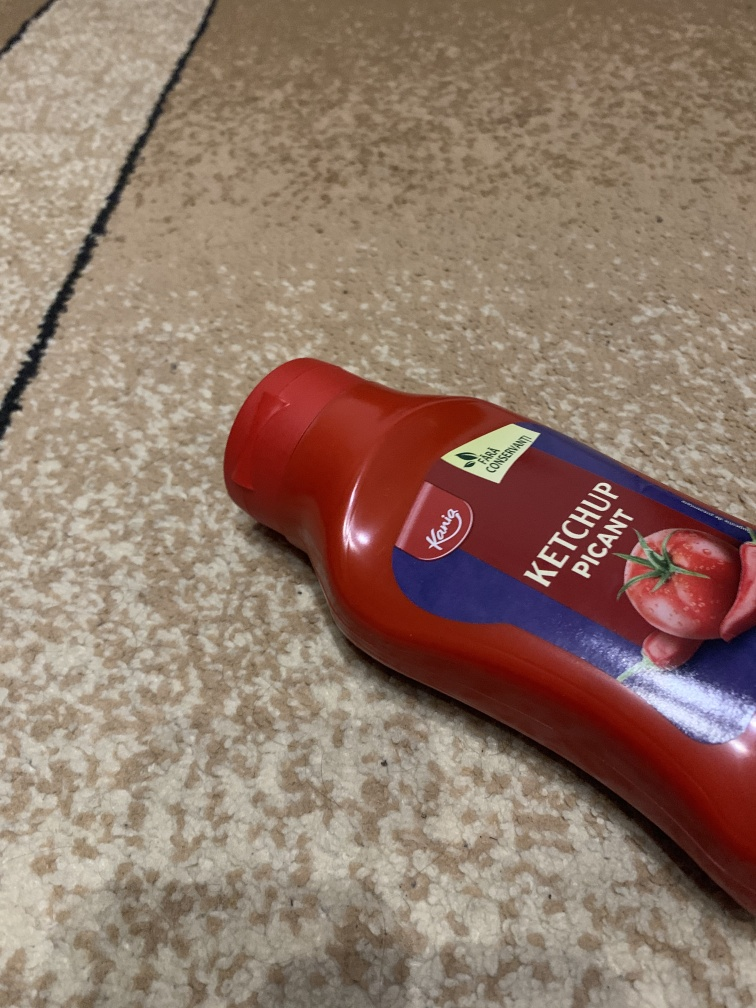ketchup: (193, 354, 756, 922)
